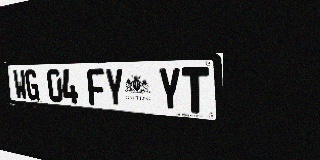0: (46, 69, 63, 103)
4: (60, 69, 78, 104)
F: (87, 69, 106, 106)
G: (24, 70, 40, 101)
T: (182, 67, 209, 114)
W: (13, 70, 27, 100)
Y: (157, 68, 182, 112), (104, 68, 125, 108)
